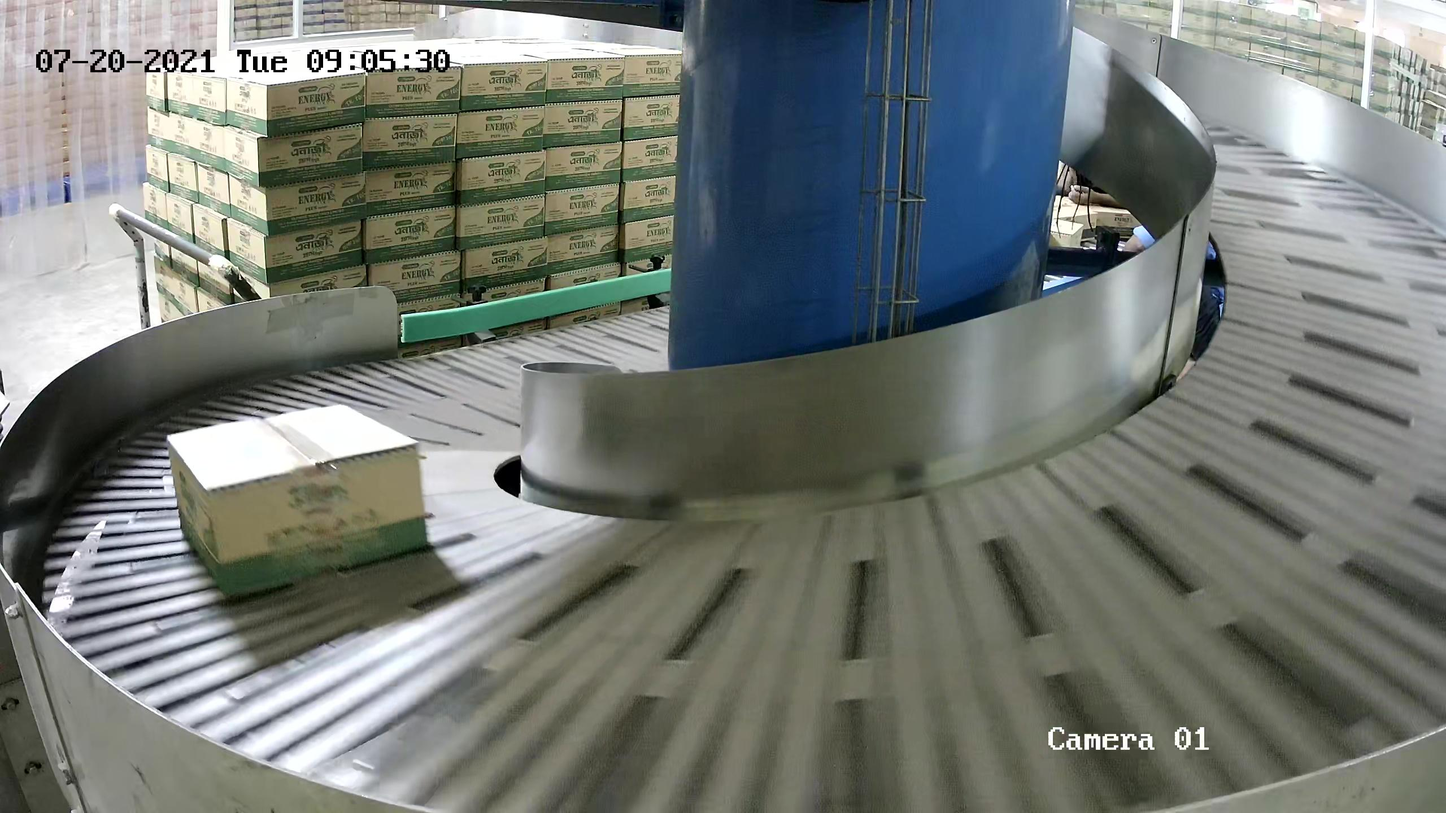Box: (165, 403, 429, 604)
